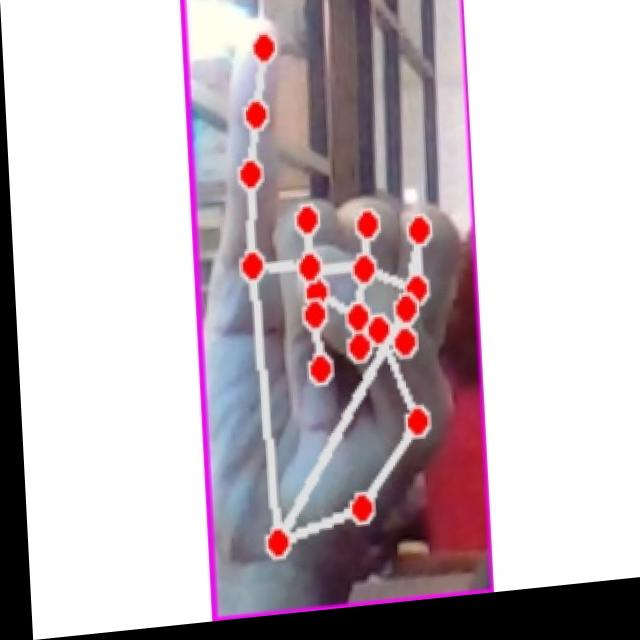I: (193, 2, 472, 599)
